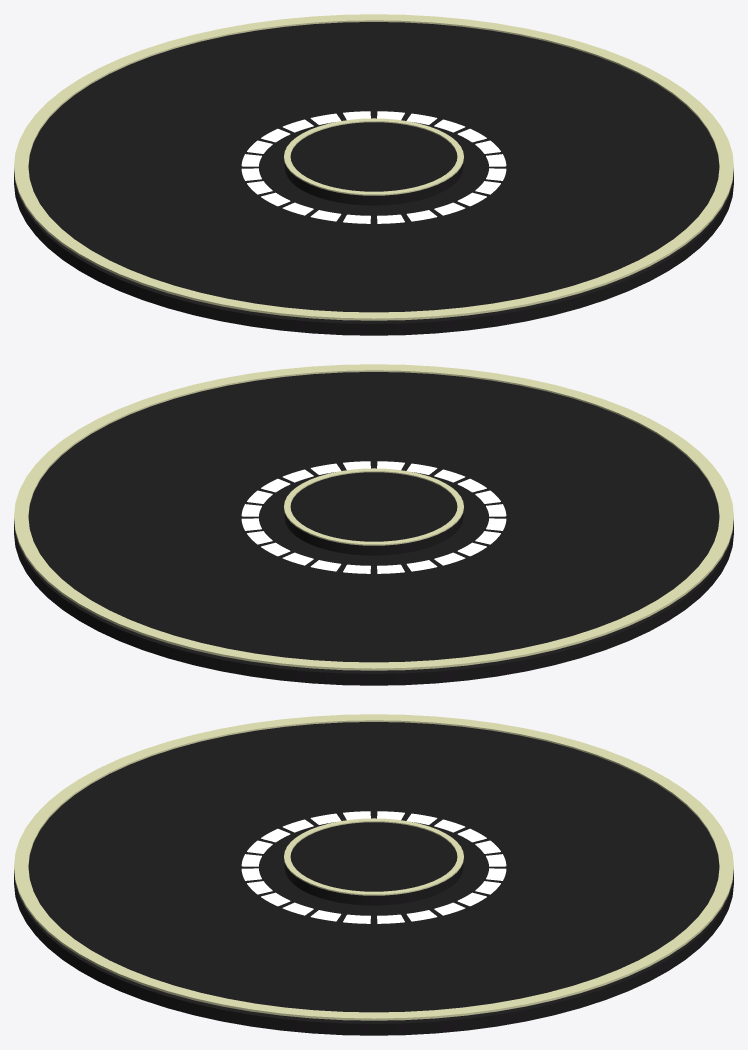
The model's file is vigil-bay.glb.
The picture shows the model from 3 angles, top to bottom: view 1: azimuth 30°, elevation 25°; view 2: azimuth 150°, elevation 25°; view 3: azimuth 270°, elevation 25°; orthographic projection.
Visible parts, largest first — view 1: Bay_Floor, Bay_Trim, Bay_Pedestal; view 2: Bay_Floor, Bay_Trim, Bay_Pedestal; view 3: Bay_Floor, Bay_Trim, Bay_Pedestal.
Part boxes in pixels (x1,y1,x2,y2): Bay_Floor: [14, 22, 733, 335]; Bay_Trim: [14, 14, 733, 320]; Bay_Pedestal: [284, 118, 463, 205]; Bay_Floor: [14, 372, 733, 685]; Bay_Trim: [14, 364, 733, 670]; Bay_Pedestal: [284, 468, 463, 555]; Bay_Floor: [14, 722, 733, 1035]; Bay_Trim: [14, 714, 733, 1020]; Bay_Pedestal: [284, 818, 463, 905].
Bounding box in the file's own units: 5 × 0.208 × 5.
